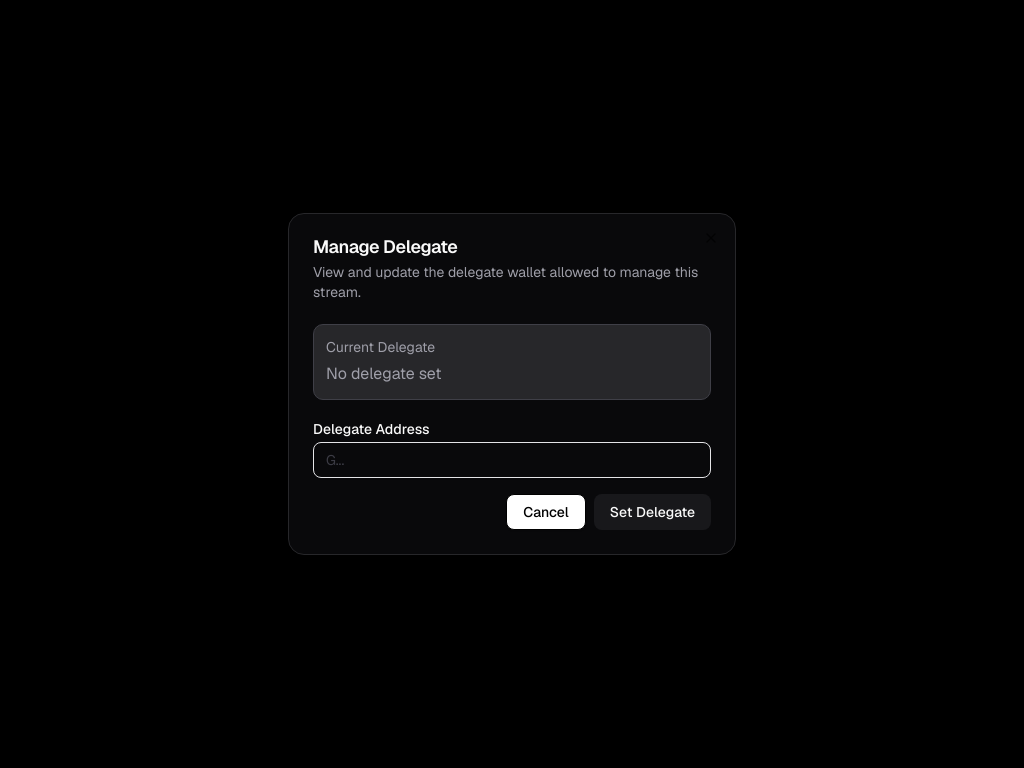
it: ManageDelegateModal – delegate address validation › clears the validation error when the user starts typing again
The width and height of the screenshot is (1024, 768).
// Trigger validation error
Click the button "Set Delegate". click: (652, 512)
box: [594,494,711,530]
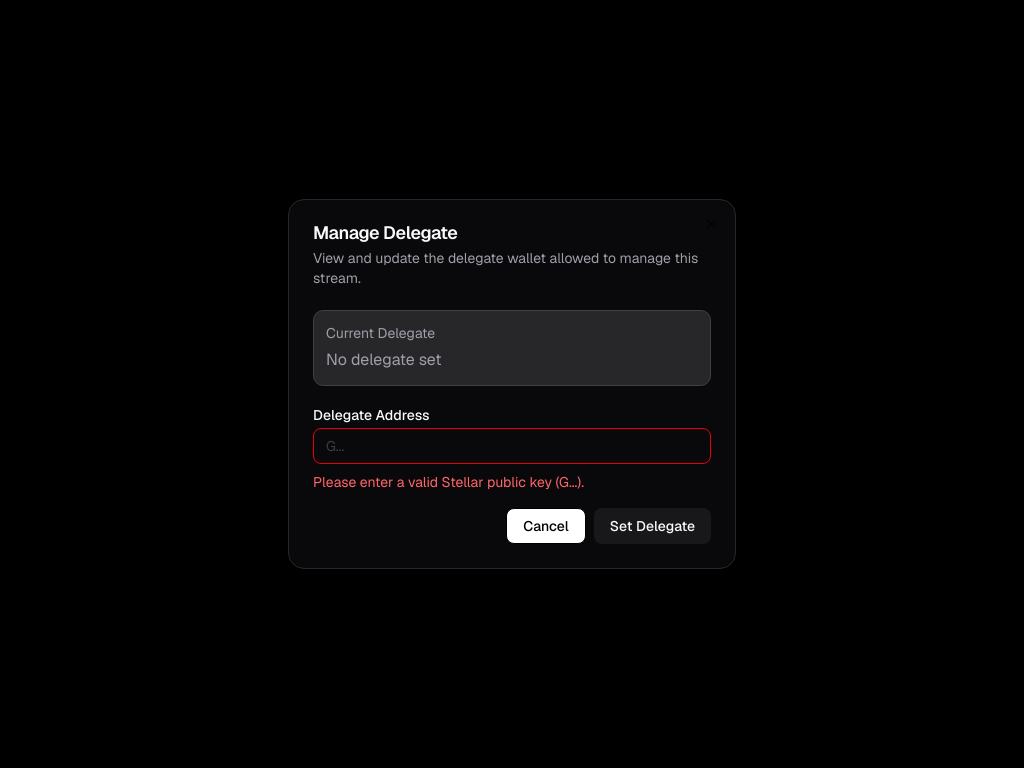
Expected: the text "Please enter a valid Stellar public key (G...)." is shown, [313,473,584,491]
// Start typing — error should clear
Type "G" into the field labelled "Delegate Address". click: (512, 446)
box: [313,428,711,464]
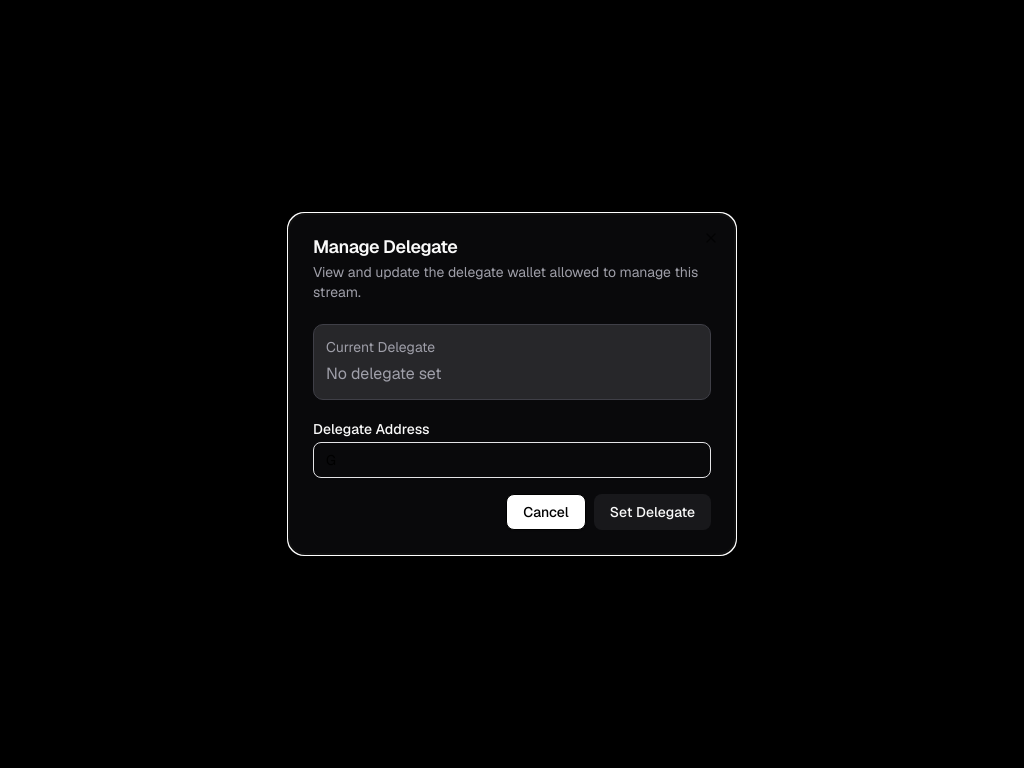
Expected: the text "Please enter a valid Stellar public key" is gone
